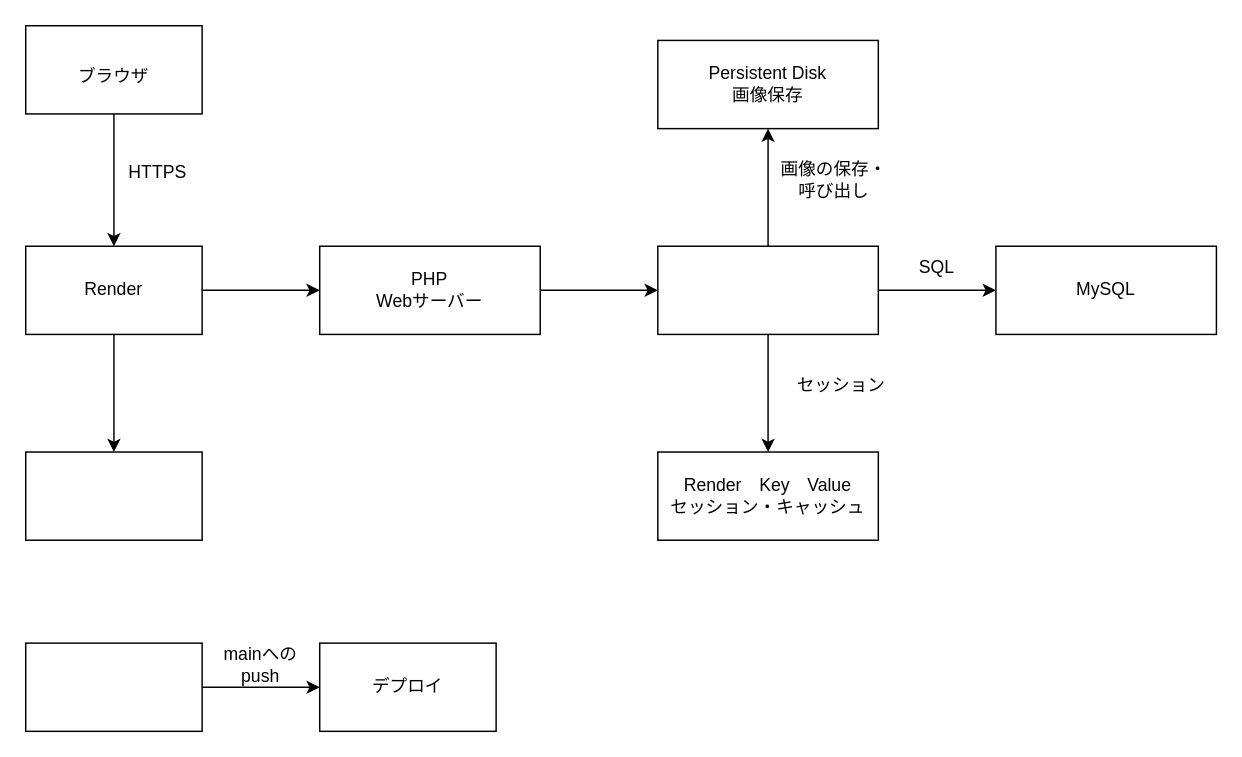
Image size: 1242x757. Some labels were removed from this diagram. The centre of each missing label's shape, as x and y in pixels:
"DB" belongs at point (113, 495).
"GitHub" belongs at point (113, 686).
"PHP Laravelアプリサーバー" belongs at point (767, 289).
